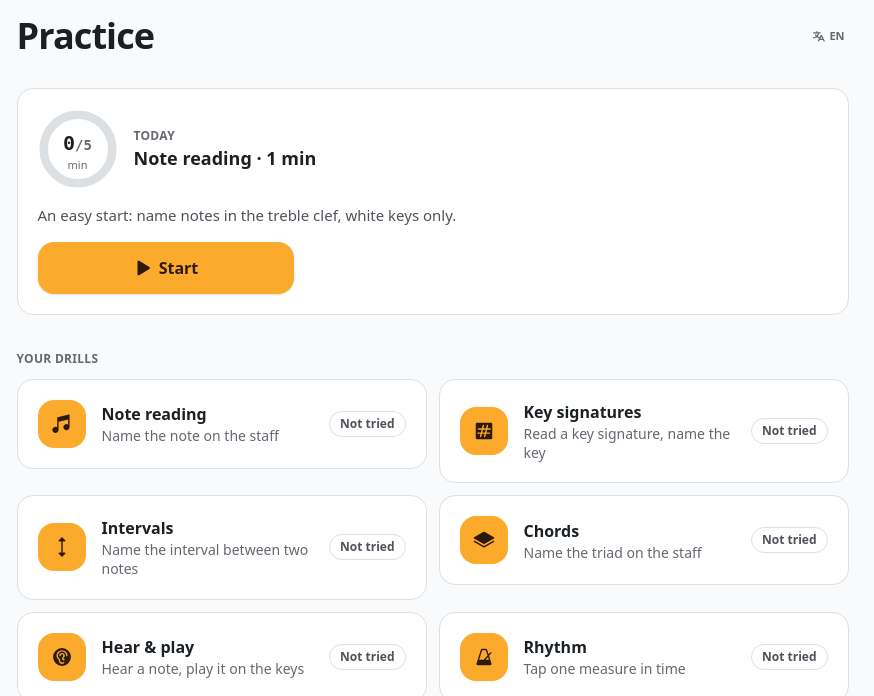
Test: PracticeTab › switches language through the app store and keeps it
Click the button with aria-label "Tiếng Việt".
click(828, 36)  # box [804,24,852,48]
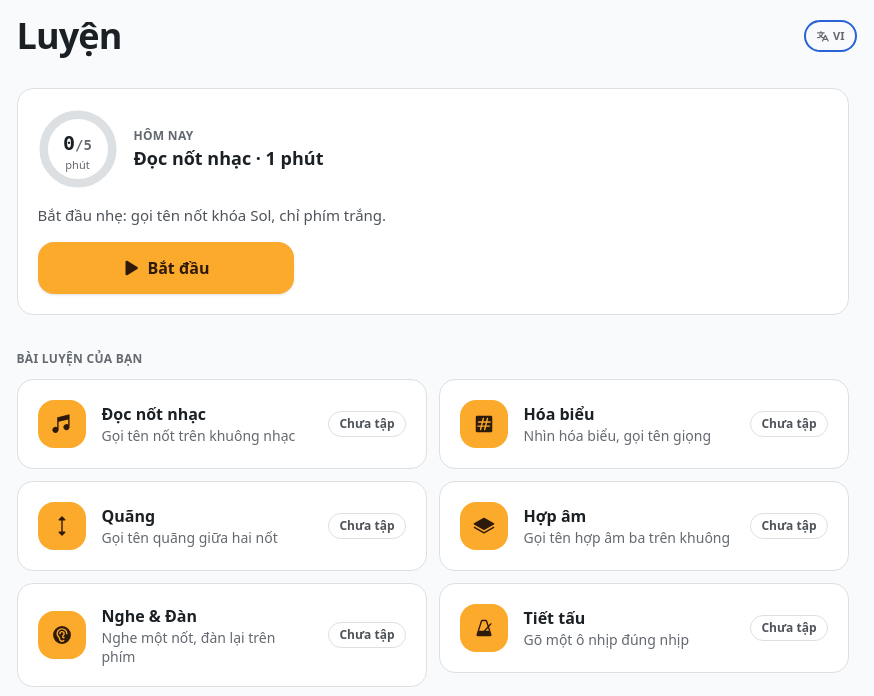
Check: the heading "Luyện" is shown, box [16,16,121,56]
